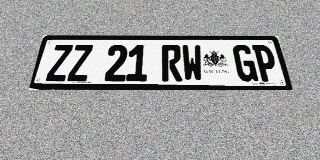1: (126, 45, 148, 81)
2: (105, 45, 128, 81)
G: (232, 45, 259, 81)
P: (252, 45, 280, 81)
R: (162, 45, 183, 81)
W: (181, 45, 204, 81)
Z: (45, 45, 73, 81), (67, 45, 93, 81)
